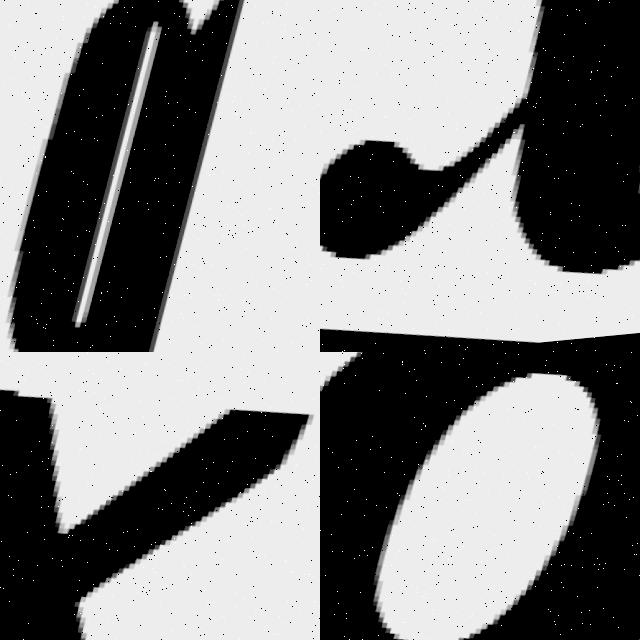O: (320, 352, 640, 640)
Q: (0, 0, 272, 352)
X: (320, 0, 640, 337), (0, 352, 320, 640)
